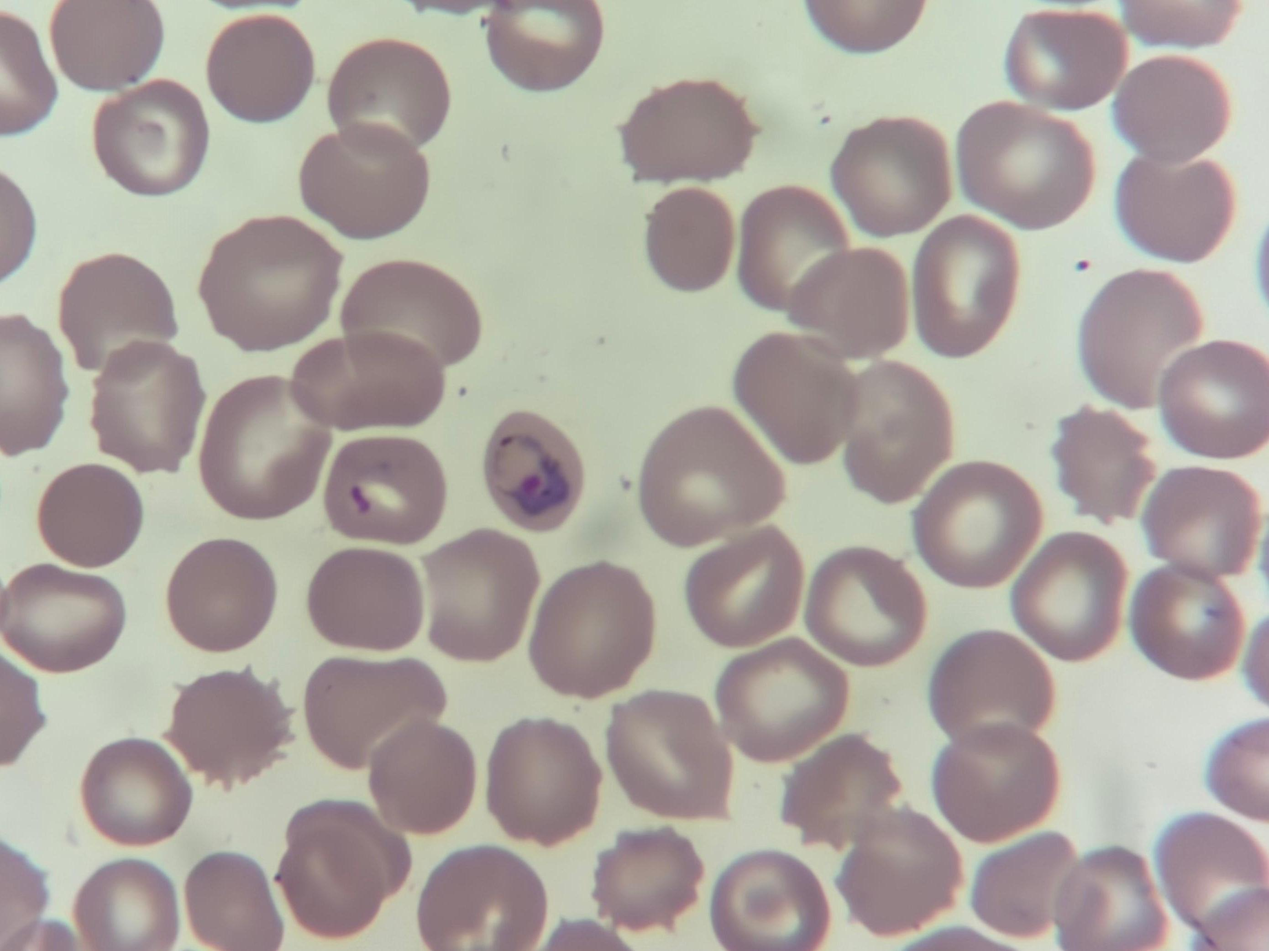Infected: (479, 409, 586, 534)
Uninfected: (196, 213, 341, 353), (639, 405, 787, 542), (196, 375, 332, 521), (523, 560, 656, 702), (949, 103, 1089, 230), (1077, 272, 1199, 414), (833, 366, 954, 508), (733, 329, 861, 461), (609, 692, 735, 824), (717, 637, 849, 760), (285, 332, 446, 432), (342, 259, 478, 376), (310, 656, 449, 769), (55, 259, 180, 384), (913, 466, 1045, 583), (915, 213, 1019, 361), (835, 806, 956, 933), (420, 526, 531, 662), (91, 341, 205, 473), (299, 131, 434, 242), (486, 719, 601, 848), (835, 115, 957, 236), (927, 628, 1048, 749), (324, 35, 446, 155), (803, 544, 922, 667), (938, 719, 1056, 843), (365, 708, 479, 834), (685, 526, 805, 645), (1141, 466, 1263, 583), (744, 183, 851, 314), (1155, 338, 1269, 458), (415, 847, 546, 951), (1016, 537, 1123, 664), (169, 674, 295, 781), (628, 81, 755, 186), (1134, 560, 1245, 680), (778, 729, 892, 845), (2, 564, 123, 673), (1121, 142, 1228, 265), (794, 249, 913, 359), (329, 434, 444, 545), (1116, 53, 1228, 166), (94, 81, 205, 195), (169, 539, 275, 656), (78, 738, 190, 845), (283, 802, 409, 897), (1048, 405, 1146, 527), (712, 852, 831, 951), (205, 21, 320, 123), (1011, 8, 1129, 107), (308, 548, 420, 652), (1054, 843, 1161, 951), (283, 829, 385, 938), (593, 829, 698, 933), (39, 466, 145, 566), (968, 834, 1077, 929), (50, 0, 161, 93), (484, 0, 600, 88), (75, 856, 178, 951), (650, 186, 730, 292), (192, 852, 274, 951)
